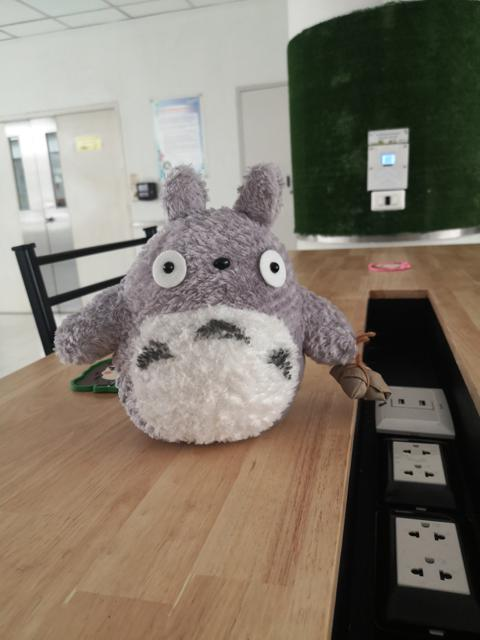totoro: (49, 159, 391, 452)
